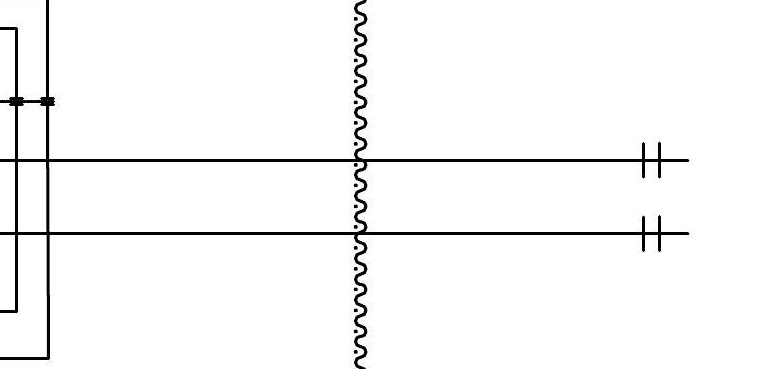115_buffer: (642, 215, 661, 252), (642, 142, 661, 179)
